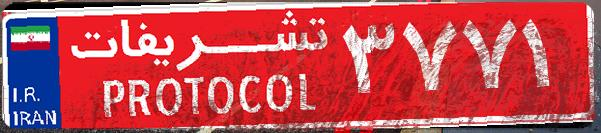1: (520, 20, 580, 115)
3: (340, 20, 400, 115)
7: (400, 20, 460, 115), (460, 20, 520, 115)
تشریفات: (60, 8, 340, 125)
